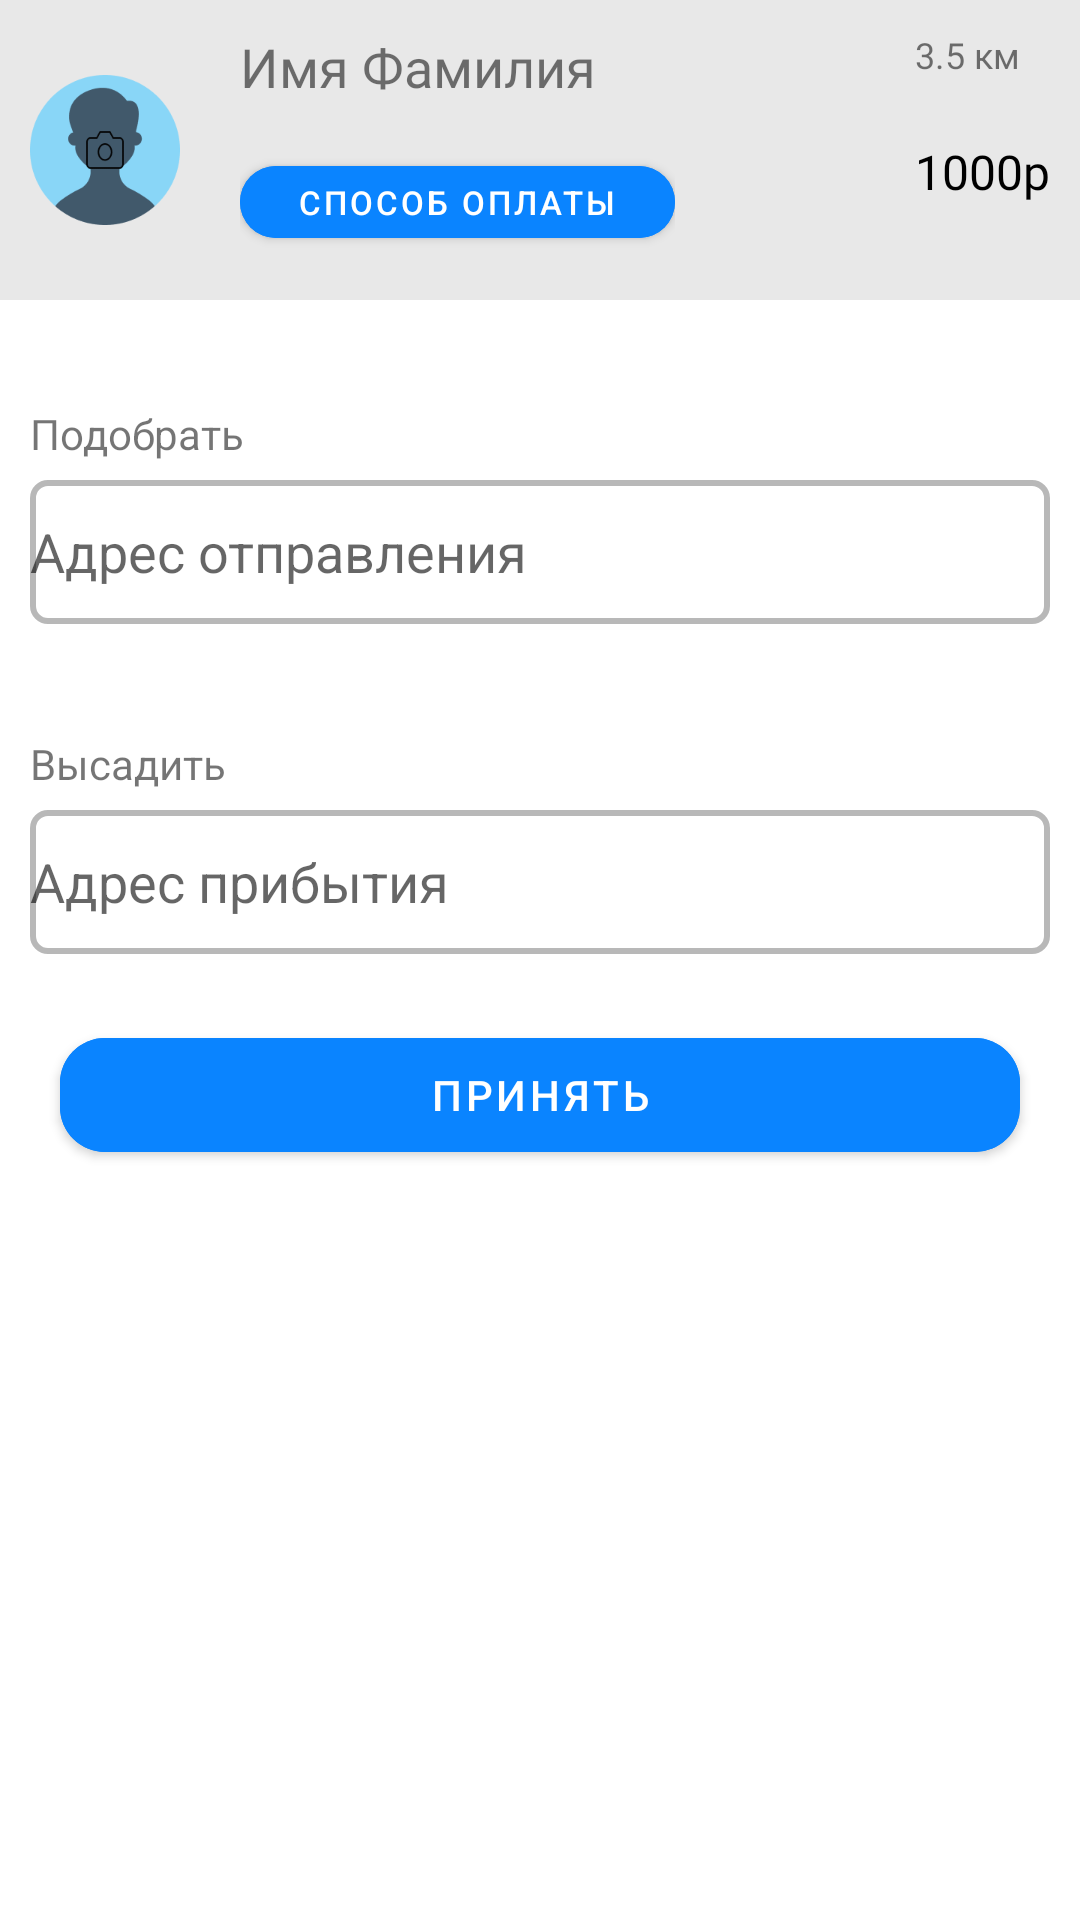

Named icons in this screenshot (1080 x 1920) and their bounding boxes, box=[x1, y1, x2, y2]:
profile man: box=[30, 75, 180, 225]
